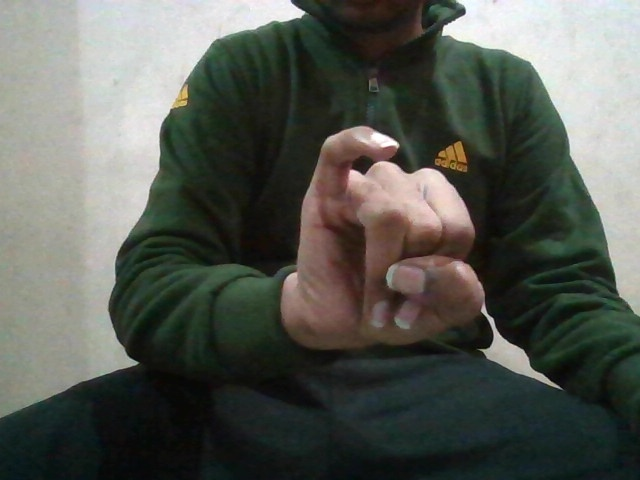J: (297, 121, 496, 358)
